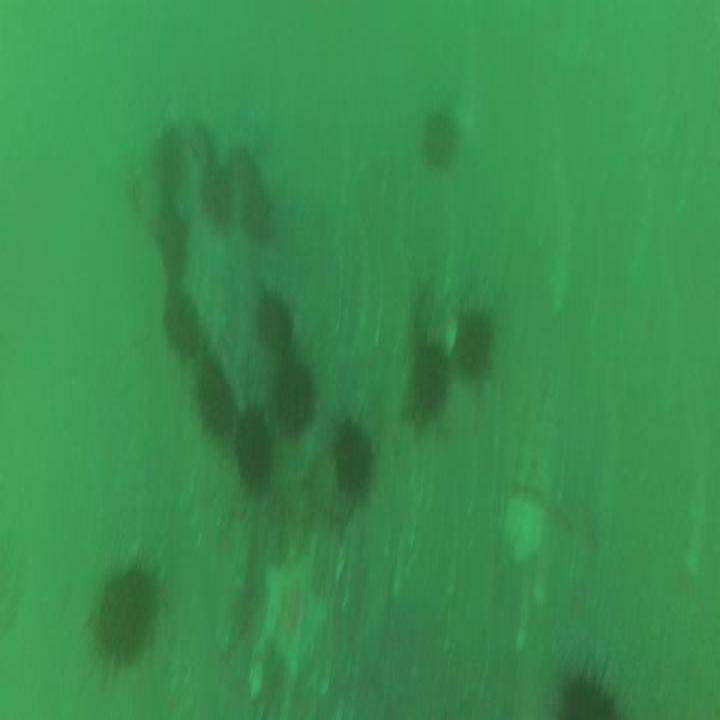echinus: (86, 551, 166, 683), (442, 297, 499, 396), (327, 404, 382, 506), (401, 329, 456, 423), (555, 642, 621, 720), (185, 345, 238, 441), (263, 358, 320, 446), (233, 144, 279, 245), (230, 395, 272, 501), (154, 279, 204, 361), (198, 151, 237, 237), (251, 290, 298, 359), (419, 96, 457, 180), (149, 124, 188, 198)
starfish: (258, 555, 327, 681)
